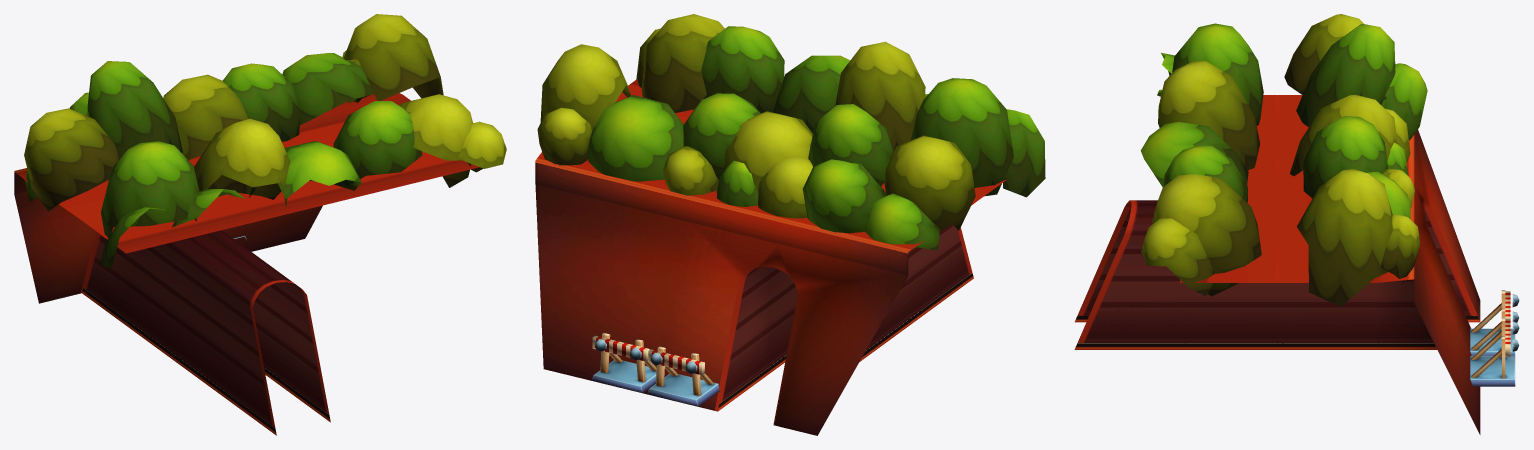
File: tunnel_3.fbx
3 views of the same model, side by side, from view 1: azimuth 30°, elevation 25°; view 2: azimuth 150°, elevation 25°; view 3: azimuth 270°, elevation 25° (orthographic). The views are drawn at different scales.
Parts seen in each view (by area): view 1: tunnel_3_obj; view 2: tunnel_3_obj; view 3: tunnel_3_obj.
Part boxes in pixels (left/top/right/bottom): tunnel_3_obj: left=14, top=14, right=506, bottom=435; tunnel_3_obj: left=535, top=14, right=1045, bottom=435; tunnel_3_obj: left=1074, top=14, right=1519, bottom=434.
Size of the model in its own units: 15200 by 9690 by 13696.
1 material, 1 textured.
